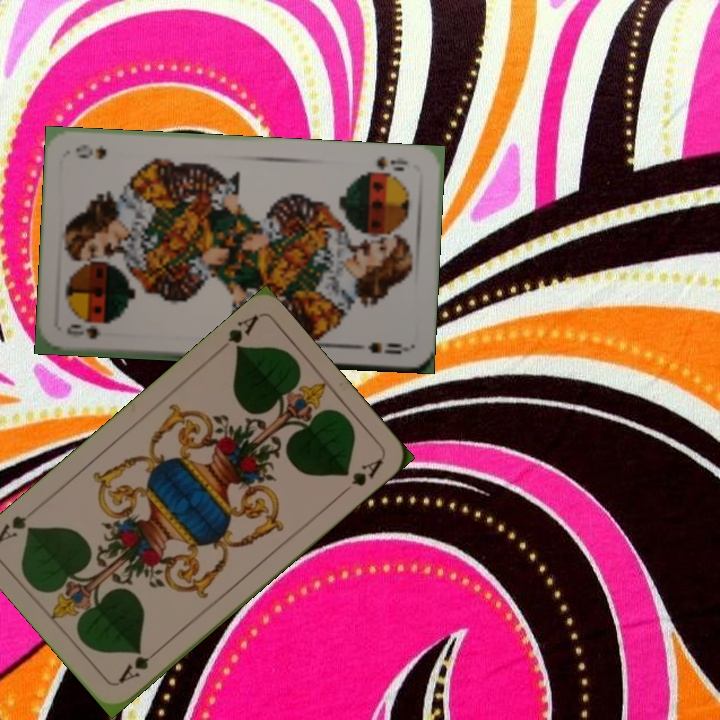GA: (114, 644, 163, 687), (223, 311, 261, 354)
SO: (62, 320, 103, 341), (373, 152, 410, 174)
